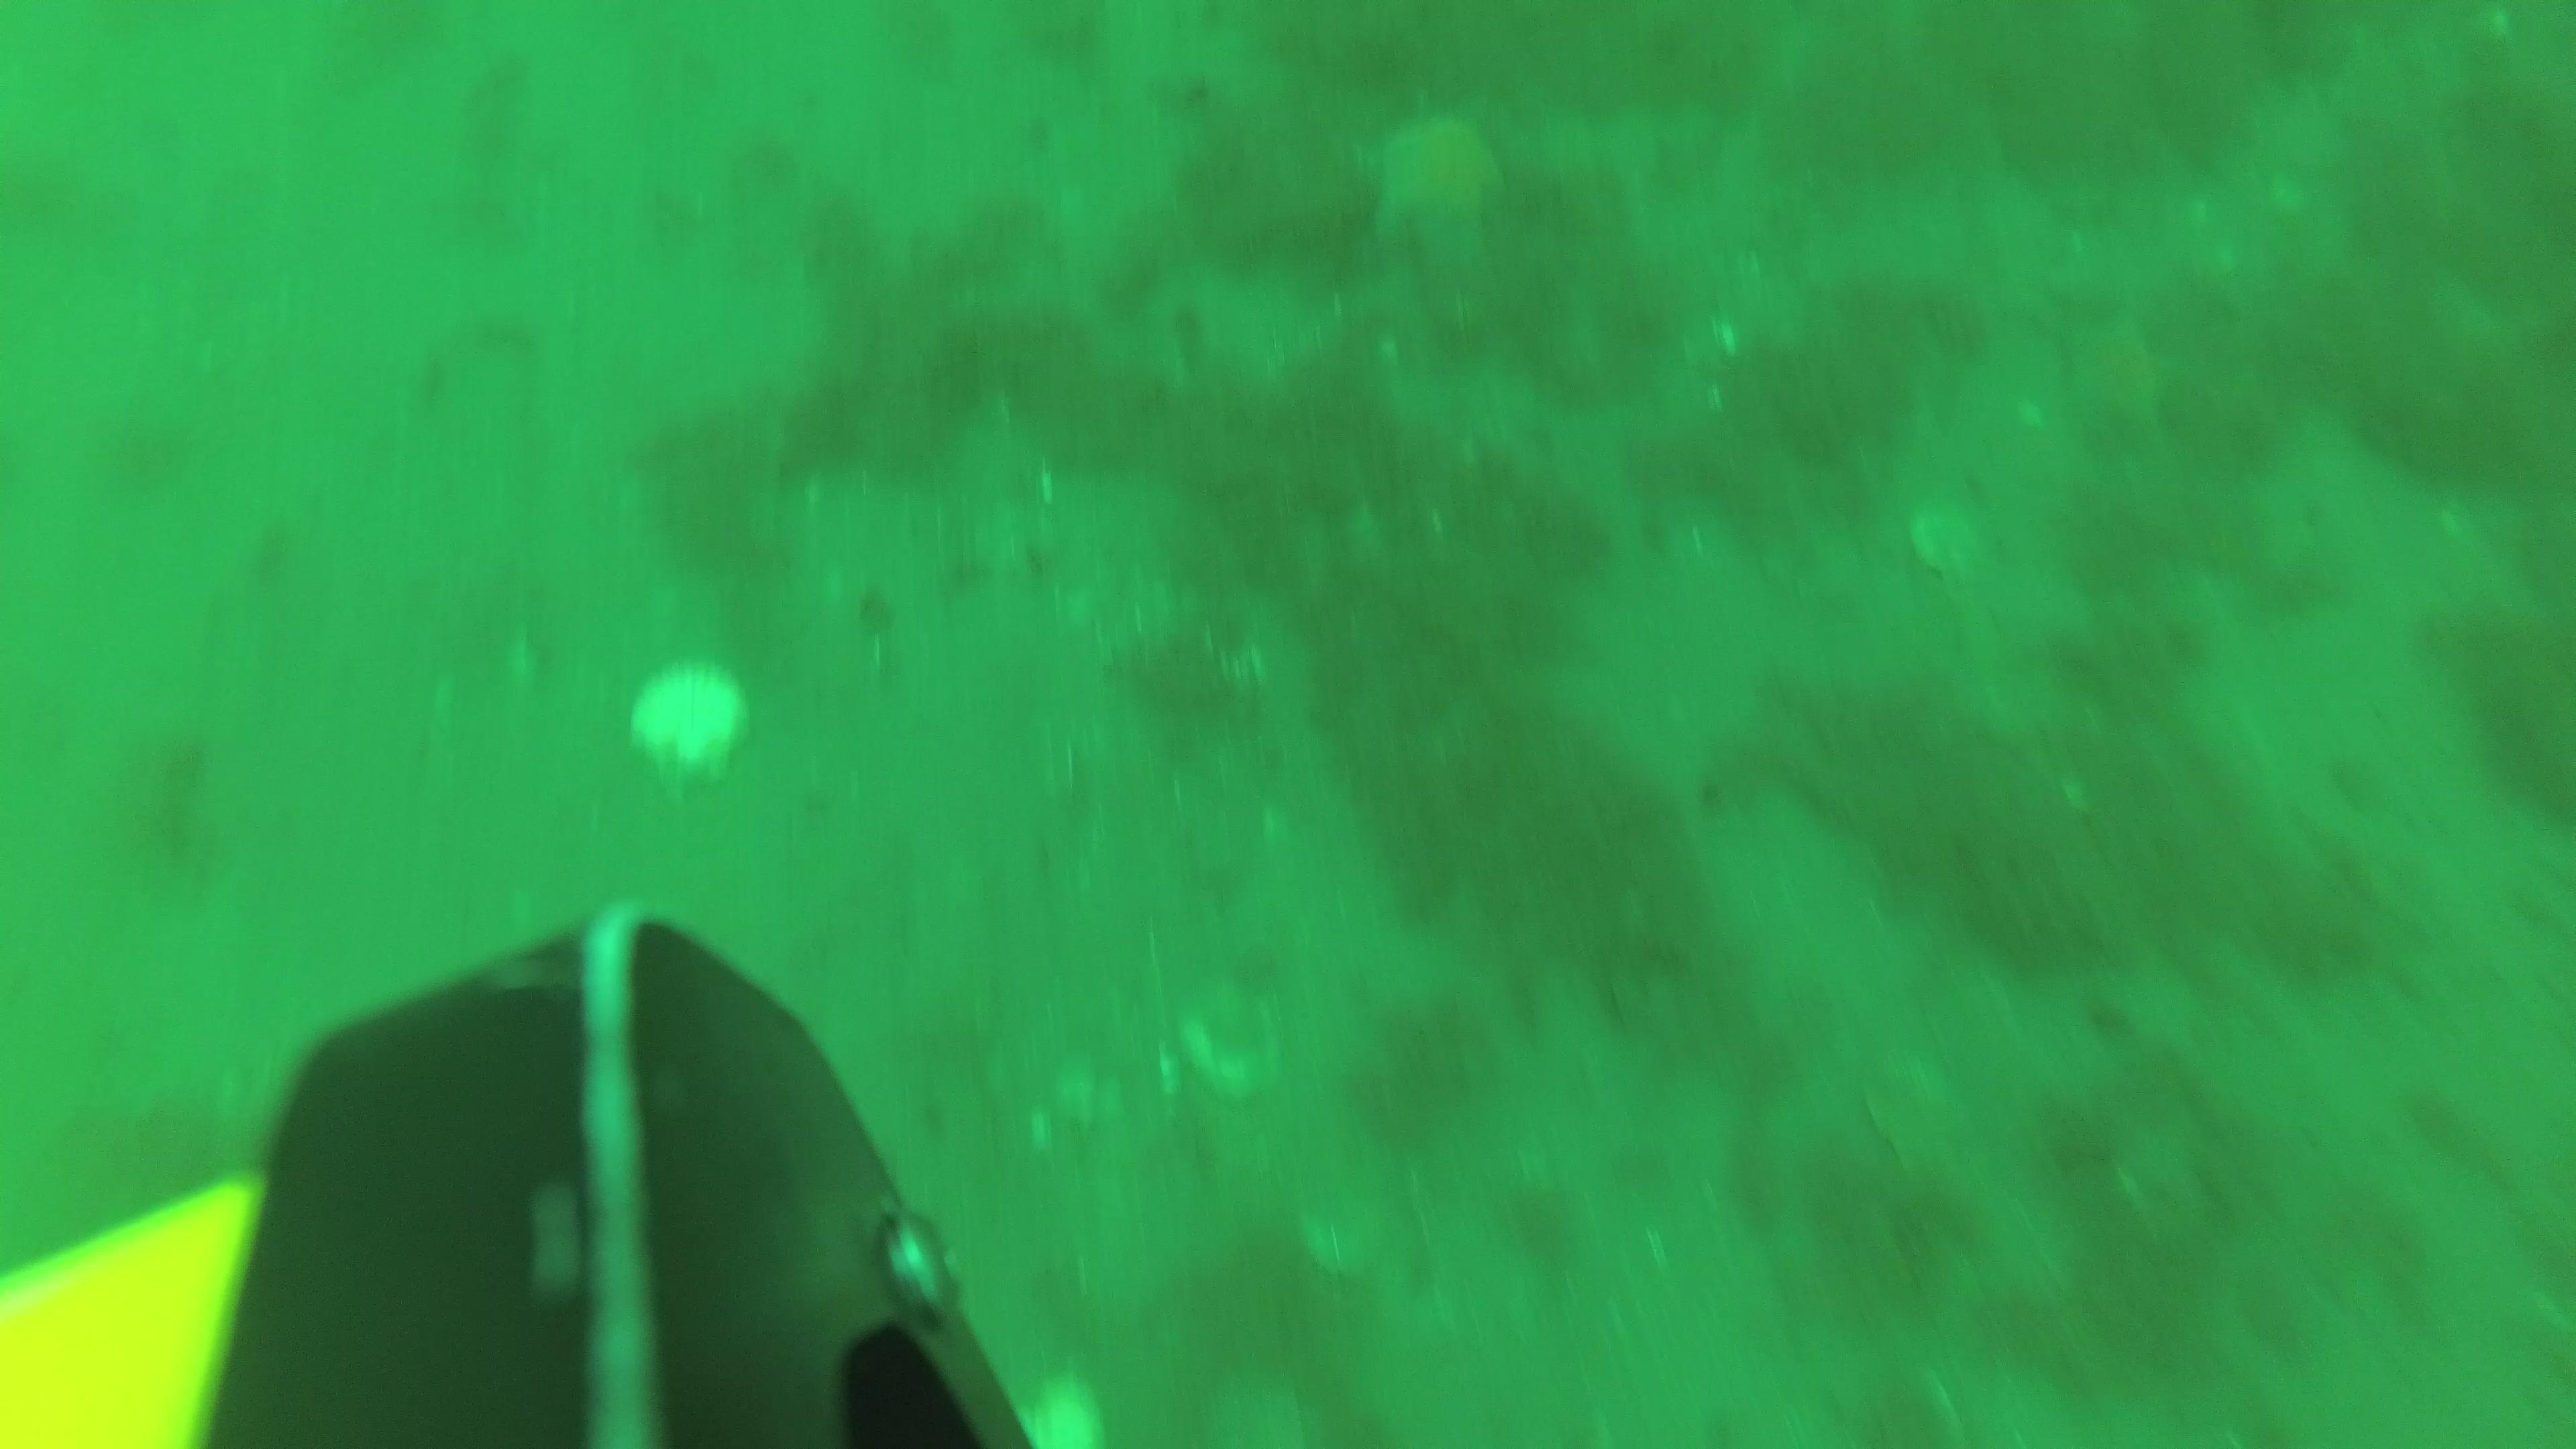scallop: (1859, 1040, 1985, 1184), (625, 660, 763, 782), (1902, 497, 1999, 594)
starfish: (1357, 111, 1513, 272), (2049, 294, 2192, 439)
